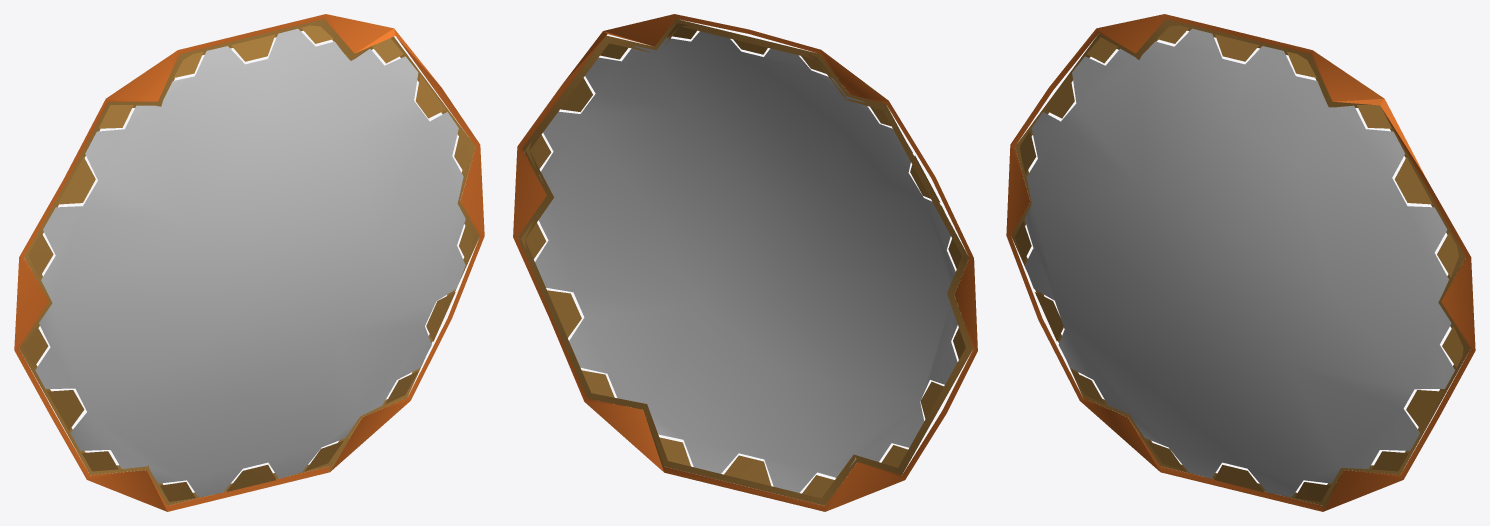
Rendered from Hexpane_Window_LOD1.glb.
The picture shows the model from 3 angles, left to right: view 1: azimuth 30°, elevation 25°; view 2: azimuth 150°, elevation 25°; view 3: azimuth 330°, elevation 25°; orthographic projection.
Visible parts, largest first — view 1: HexpaneWindow_LOD1; view 2: HexpaneWindow_LOD1; view 3: HexpaneWindow_LOD1.
Part boxes in pixels (x1,y1,x2,y2): HexpaneWindow_LOD1: (14, 14, 484, 511); HexpaneWindow_LOD1: (513, 14, 977, 511); HexpaneWindow_LOD1: (1006, 14, 1475, 511).
Size of the model in its own units: 7.19 by 6.78 by 0.6414.
